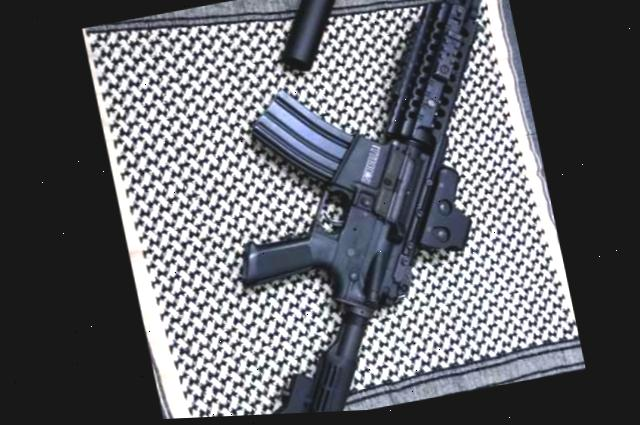rifle: (119, 0, 581, 421)
